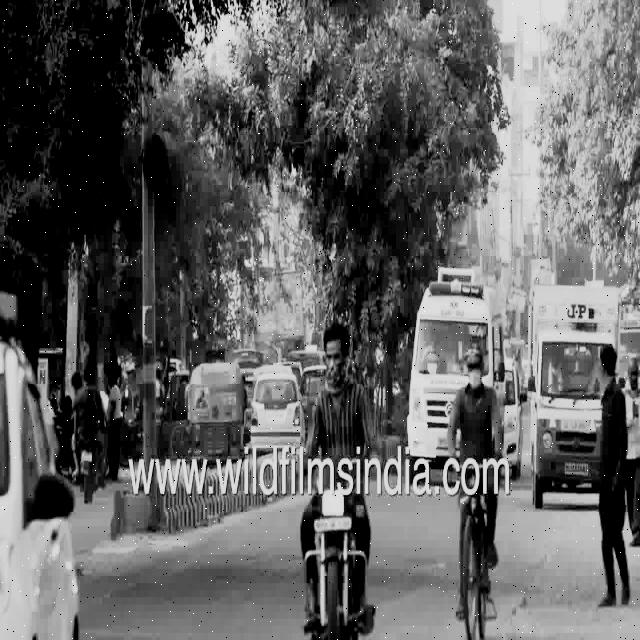Ambulance: (395, 252, 518, 452)
